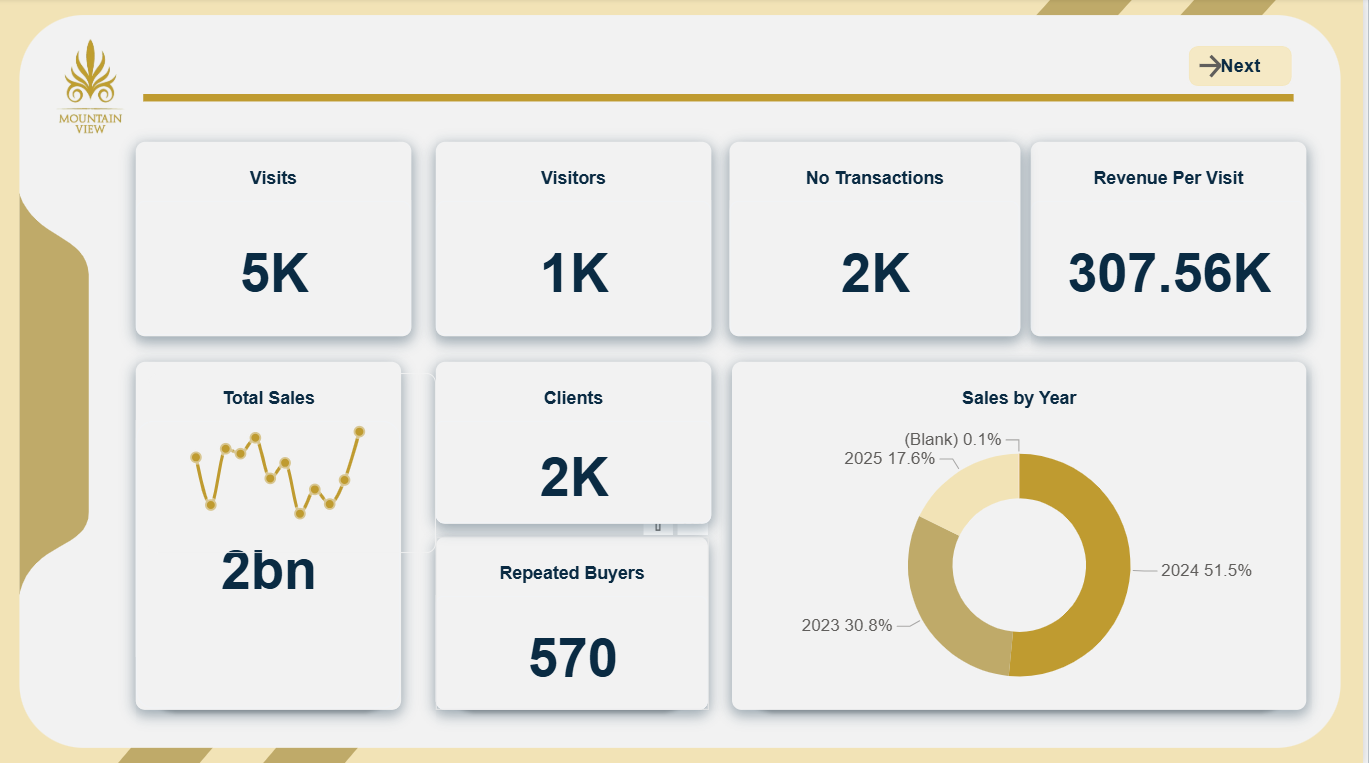

This screenshot's page, from the dashboard's own definition file:
{"tool":"powerbi","page":{"name":"Page 1","canvas":[1280,720],"ordinal":1},"visuals":[{"type":"cardVisual","title":"Total Sales","fields":{"Data":["Key Measure.Total Sales"]},"box":[129.7,340.7,249,326.3],"z":0},{"type":"cardVisual","title":"Repeated Buyers","fields":{"Data":["Key Measure.Repeated Buyers"]},"box":[411.5,504.5,255.5,162.5],"z":1000},{"type":"cardVisual","title":"Revenue Per Visit","fields":{"Data":["Key Measure.Revenue per Visit"]},"box":[969.7,135,258.1,182.1],"z":2000},{"type":"donutChart","title":"Sales by Year","fields":{"Y":["Key Measure.Total Sales"],"Category":["Calender.Year"]},"box":[689.3,340.7,538.6,326.3],"z":3000},{"type":"image","box":[0,11.8,173,142.8],"z":4000},{"type":"actionButton","box":[1115.2,43.2,99.6,40.6],"z":5000},{"type":"cardVisual","title":"Visits","fields":{"Data":["Key Measure.Total Visits"]},"box":[129.7,135,258.1,182.1],"z":6000},{"type":"cardVisual","title":"Visitors","fields":{"Data":["Key Measure.Total Visitors"]},"box":[411.5,135,258.1,182.1],"z":7000},{"type":"cardVisual","title":"Clients","fields":{"Data":["Key Measure.Total Clients"]},"box":[411.5,340.7,258.1,152],"z":8000},{"type":"cardVisual","title":"No Transactions","fields":{"Data":["Key Measure.No Of Transactions"]},"box":[686.7,135,272.6,182.1],"z":9000},{"type":"lineChart","fields":{"Y":["Key Measure.Total Sales"],"Category":["Calender.Month"]},"box":[141.5,351.2,269.9,169],"z":10000}]}

Visuals, with their boxes in screenshot pixels (x1, y1, x2, y2), scaled from the page's 1280x720 canvas onto the 1369x763 screenshot:
"Total Sales" cardVisual: 139,361,405,707
"Repeated Buyers" cardVisual: 440,535,713,707
"Revenue Per Visit" cardVisual: 1037,143,1313,336
"Sales by Year" donutChart: 737,361,1313,707
image: 0,13,185,164
actionButton: 1193,46,1299,89
"Visits" cardVisual: 139,143,415,336
"Visitors" cardVisual: 440,143,716,336
"Clients" cardVisual: 440,361,716,522
"No Transactions" cardVisual: 734,143,1026,336
lineChart - Key Measure.Total Sales x Calender.Month: 151,372,440,551
